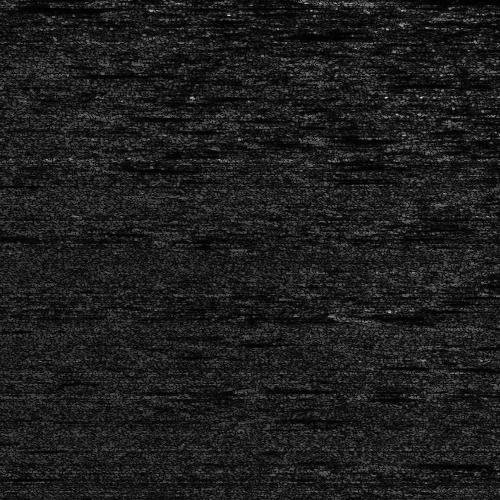object: (264, 0, 379, 4), (0, 1, 27, 10), (491, 11, 500, 22)
shadow: (0, 1, 123, 10), (321, 0, 500, 4)
